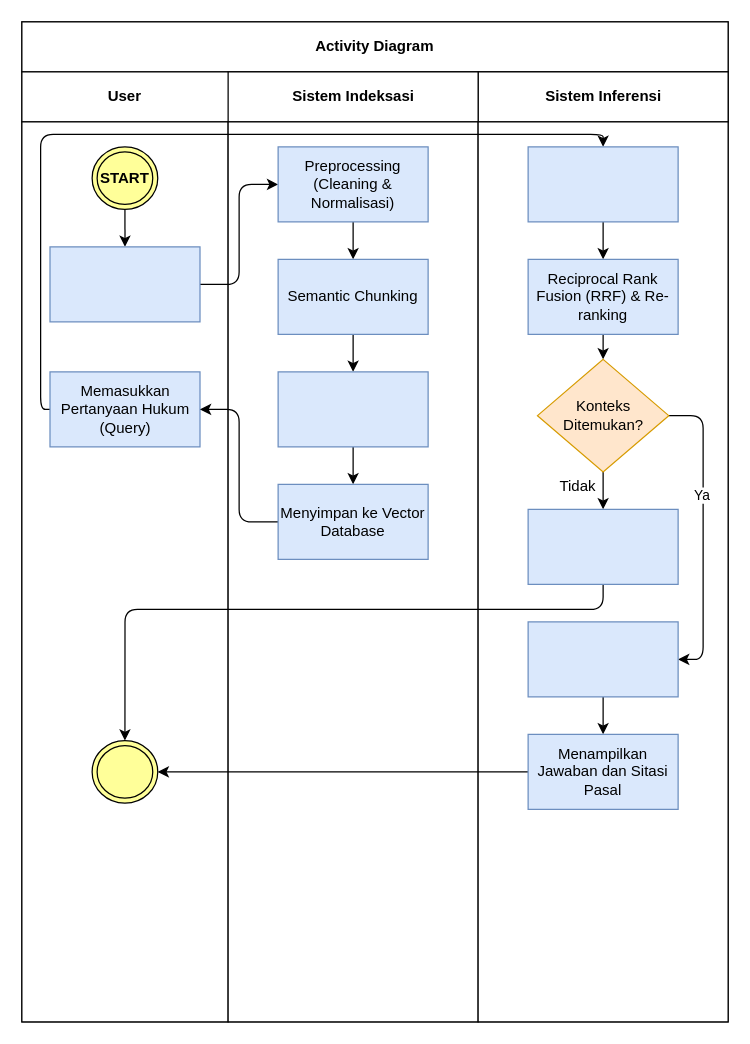
The diagram is 750 pixels wide and 1044 high, and some of its shapes have lost their labels. The shapes that lost their labels are listed below. From the top down, each one's centre as x and y in pixels, then its label:
At point (602, 184): "Hybrid Retrieval (BM25 + Dense)".
At point (124, 284): "Mengunggah Dokumen Regulasi (PDF)".
At point (352, 409): "Embedding Model".
At point (602, 546): "Menampilkan Peringatan (Tidak Ada Konteks)".
At point (602, 659): "LLM Generation (Menyusun Jawaban)".
At point (124, 771): "END".
